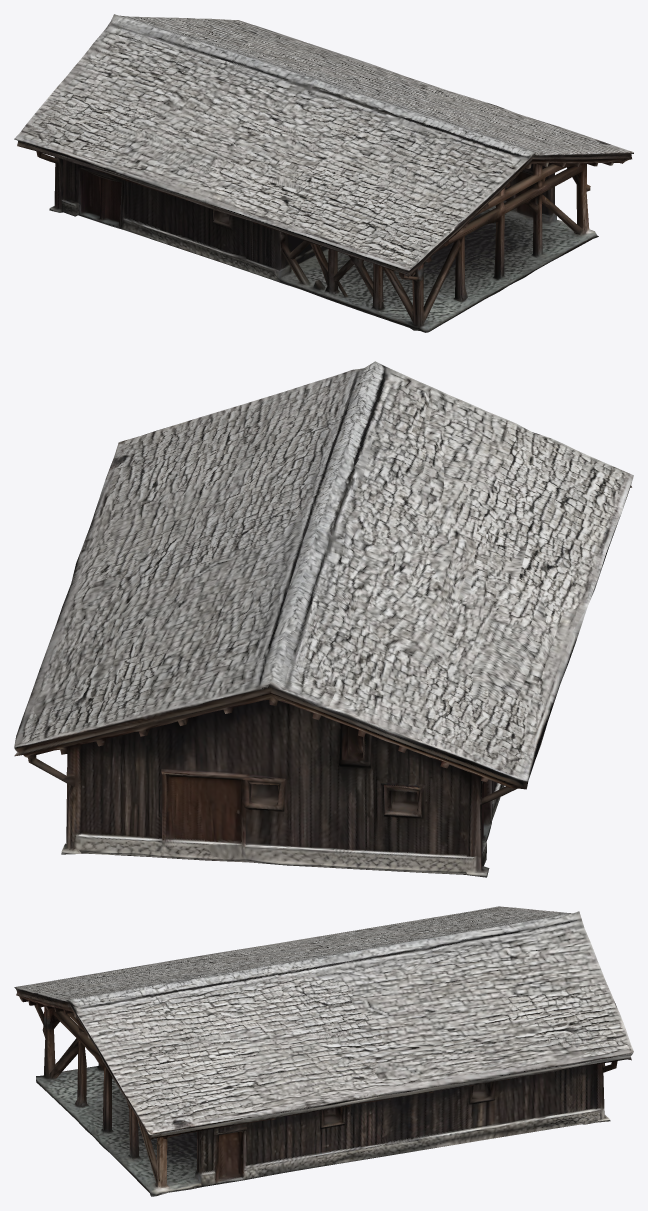
The model's file is sawmill_tripo.glb.
3 renders of one model, top to bottom at view 1: azimuth 30°, elevation 25°; view 2: azimuth 150°, elevation 25°; view 3: azimuth 270°, elevation 25°, orthographic. The views are drawn at different scales.
Parts seen in each view (by area): view 1: tripo_node_29db12f4-9a4c-4396-8e14-2f4197a77a0d; view 2: tripo_node_29db12f4-9a4c-4396-8e14-2f4197a77a0d; view 3: tripo_node_29db12f4-9a4c-4396-8e14-2f4197a77a0d.
Boxes of the visible parts, x1=… form: tripo_node_29db12f4-9a4c-4396-8e14-2f4197a77a0d: x1=14, y1=14, x2=633, y2=332; tripo_node_29db12f4-9a4c-4396-8e14-2f4197a77a0d: x1=14, y1=361, x2=633, y2=877; tripo_node_29db12f4-9a4c-4396-8e14-2f4197a77a0d: x1=14, y1=906, x2=633, y2=1196.
Bounding box in the file's own units: 0.8538 × 0.2523 × 0.9801.
Materials: 1 (1 with a texture image).
